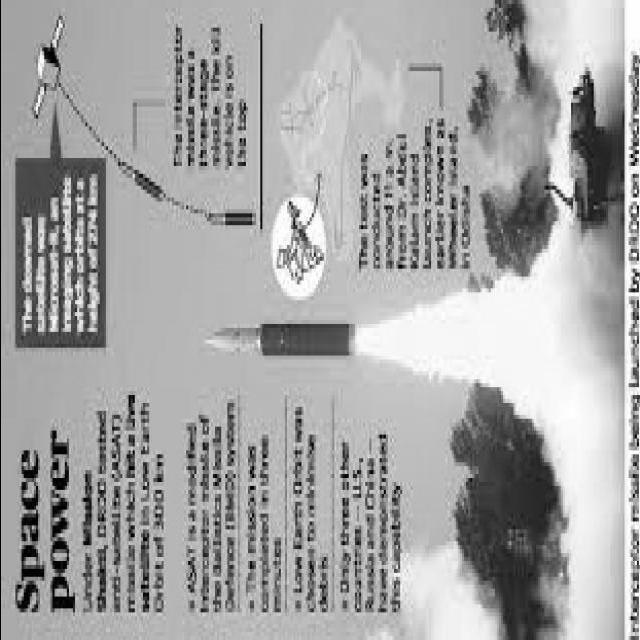Missile: (204, 310, 369, 366)
